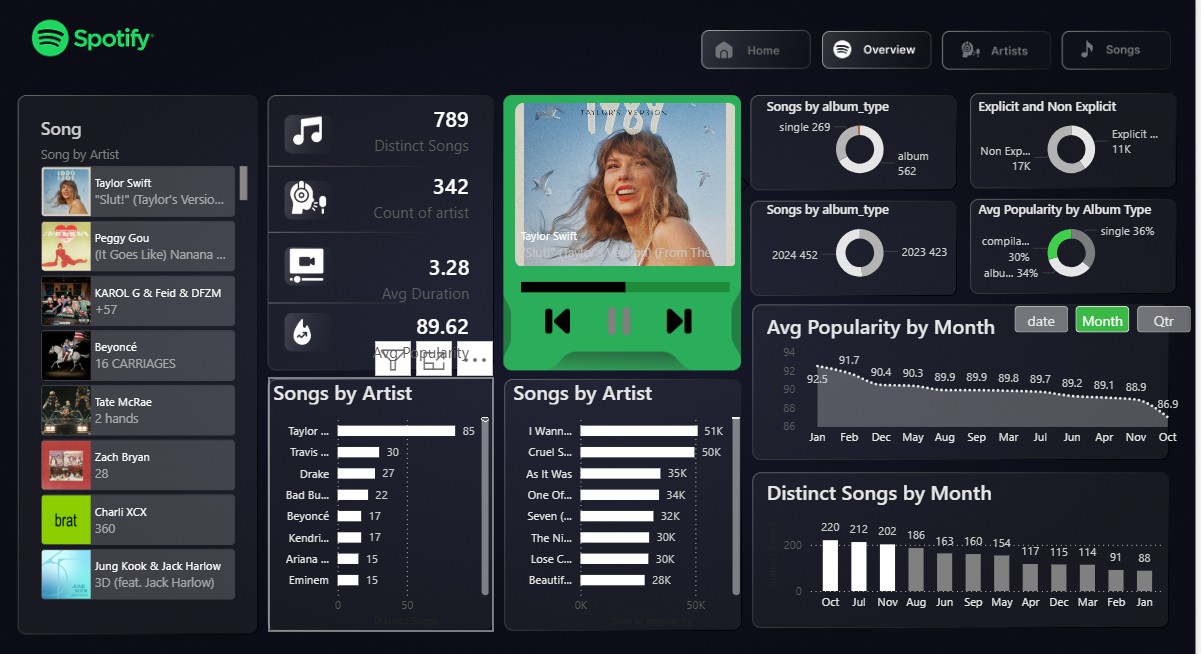

The dashboard page shown, as its layout file describes it:
{"tool":"powerbi","page":{"name":"Overview","canvas":[1280,720],"ordinal":1},"visuals":[{"type":"clusteredBarChart","title":"Songs by Artist","fields":{"Y":["_Measures.Distinct Songs"],"Category":["Top-50-World.artist"]},"box":[296.7,409.4,238.7,268.5],"z":0},{"type":"clusteredBarChart","title":"Songs by Artist","fields":{"Y":["Sum(Top-50-World.popularity)"],"Category":["Top-50-World.song"]},"box":[551.9,409.4,250.3,268.5],"z":1000},{"type":"areaChart","fields":{"Category":["Top-50-World.Month"],"Y":["_Measures.Avg Popularity"]},"box":[820.8,338.8,448.6,151.1],"z":2000},{"type":"advancedSlicerVisual","fields":{"Values":["slicer_option.slicer_option"]},"box":[1083.2,327.7,197.2,38.2],"z":3000},{"type":"donutChart","title":"Songs by album_type","fields":{"Y":["_Measures.Distinct Songs"],"Category":["Top-50-World.album_type"]},"box":[820.8,111.3,206.8,92.3],"z":4000},{"type":"donutChart","title":"Explicit and Non Explicit","fields":{"Y":["_Measures.Explicit Songs","_Measures.Non Explicit Songs"]},"box":[1045,111.3,206.8,92.3],"z":5000},{"type":"donutChart","title":"Songs by album_type","fields":{"Y":["_Measures.Distinct Songs"],"Category":["Top-50-World.date.Variation.Date Hierarchy.Year"]},"box":[820.8,221.1,206.8,92.3],"z":6000},{"type":"donutChart","title":"Avg Popularity by Album Type","fields":{"Category":["Top-50-World.album_type"],"Y":["_Measures.Avg Popularity"]},"box":[1045,221.1,206.8,92.3],"z":7000},{"type":"clusteredColumnChart","fields":{"Category":["Top-50-World.Month"],"Y":["_Measures.Distinct Songs"]},"box":[820.8,515.4,431.1,149.5],"z":8000},{"type":"cardVisual","fields":{"Data":["_Measures.Distinct Songs"]},"box":[396.1,111.3,119.3,70],"z":9000},{"type":"cardVisual","fields":{"Data":["Count(Top-50-World.artist)"]},"box":[396.1,181.3,119.3,71.6],"z":10000},{"type":"cardVisual","fields":{"Data":["_Measures.Avg Duration (min)"]},"box":[398.3,266.7,118.3,70],"z":11000},{"type":"cardVisual","fields":{"Data":["_Measures.Avg Popularity"]},"box":[396.1,330.8,119.3,70],"z":12000},{"type":"image","box":[313.4,346.8,47.7,27],"z":13000},{"type":"image","box":[316.5,198.8,46.1,38.2],"z":14000},{"type":"image","box":[316.5,267.2,42.9,46.1],"z":15000},{"type":"image","box":[318.1,132,41.4,30.2],"z":16000},{"type":"advancedSlicerVisual","title":"Song ","fields":{"Values":["Top-50-World.song"]},"box":[50.9,132,229,518.5],"z":17000},{"type":"advancedSlicerVisual","title":"Song ","fields":{"Values":["Top-50-World.song"]},"box":[533.3,111.7,285,185],"z":18000},{"type":"hundredPercentStackedBarChart","fields":{"Y":["_Measures.Avg Popularity","Avg(Top-50-World.popularity)"]},"box":[560,270,231.7,78.3],"z":19000},{"type":"image","box":[648.3,333.3,40,30],"z":20000},{"type":"image","box":[583.3,333.3,40,30],"z":21000},{"type":"image","box":[713.3,333.3,40,30],"z":22000},{"type":"shape","box":[535,101.7,300,300],"z":23000},{"type":"actionButton","box":[753.3,41.7,123.3,40],"z":24000},{"type":"actionButton","box":[886.7,41.7,110,40],"z":25000},{"type":"actionButton","box":[1010,41.7,123.3,40],"z":26000},{"type":"actionButton","box":[1145,41.7,123.3,40],"z":27000}]}

Visuals, with their boxes on the page's 1280x720 design canvas (x1, y1, x2, y2). These are canvas units, not pixel positions in the 1201x654 screenshot, which may show the page scaled, cropped or inside an application window:
"Songs by Artist" clusteredBarChart: 297,409,535,678
"Songs by Artist" clusteredBarChart: 552,409,802,678
areaChart - Top-50-World.Month x _Measures.Avg Popularity: 821,339,1269,490
advancedSlicerVisual - slicer_option.slicer_option: 1083,328,1280,366
"Songs by album_type" donutChart: 821,111,1028,204
"Explicit and Non Explicit" donutChart: 1045,111,1252,204
"Songs by album_type" donutChart: 821,221,1028,313
"Avg Popularity by Album Type" donutChart: 1045,221,1252,313
clusteredColumnChart - Top-50-World.Month x _Measures.Distinct Songs: 821,515,1252,665
cardVisual - _Measures.Distinct Songs: 396,111,515,181
cardVisual - Count(Top-50-World.artist): 396,181,515,253
cardVisual - _Measures.Avg Duration (min): 398,267,517,337
cardVisual - _Measures.Avg Popularity: 396,331,515,401
image: 313,347,361,374
image: 316,199,363,237
image: 316,267,359,313
image: 318,132,360,162
"Song " advancedSlicerVisual: 51,132,280,650
"Song " advancedSlicerVisual: 533,112,818,297
hundredPercentStackedBarChart - _Measures.Avg Popularity x Avg(Top-50-World.popularity): 560,270,792,348
image: 648,333,688,363
image: 583,333,623,363
image: 713,333,753,363
shape: 535,102,835,402
actionButton: 753,42,877,82
actionButton: 887,42,997,82
actionButton: 1010,42,1133,82
actionButton: 1145,42,1268,82
